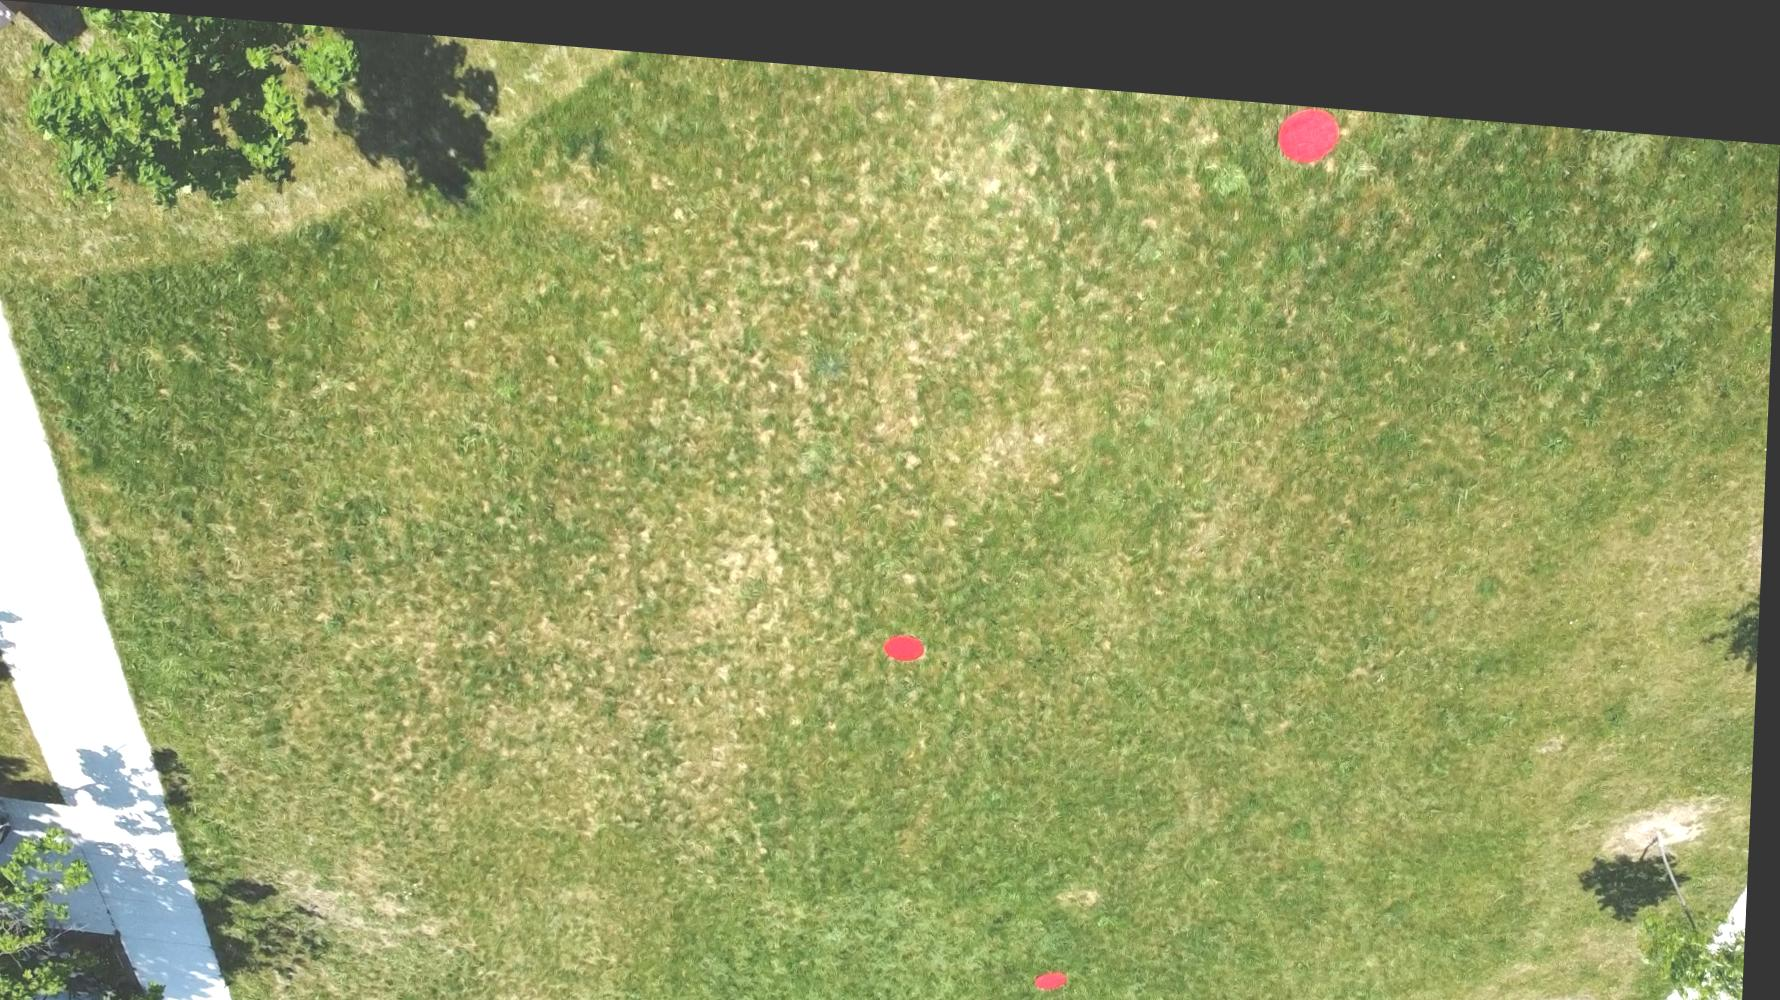Red: (1271, 82, 1345, 145), (885, 612, 932, 649), (1038, 949, 1078, 973)
